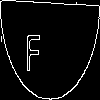F: (25, 24, 41, 72)
